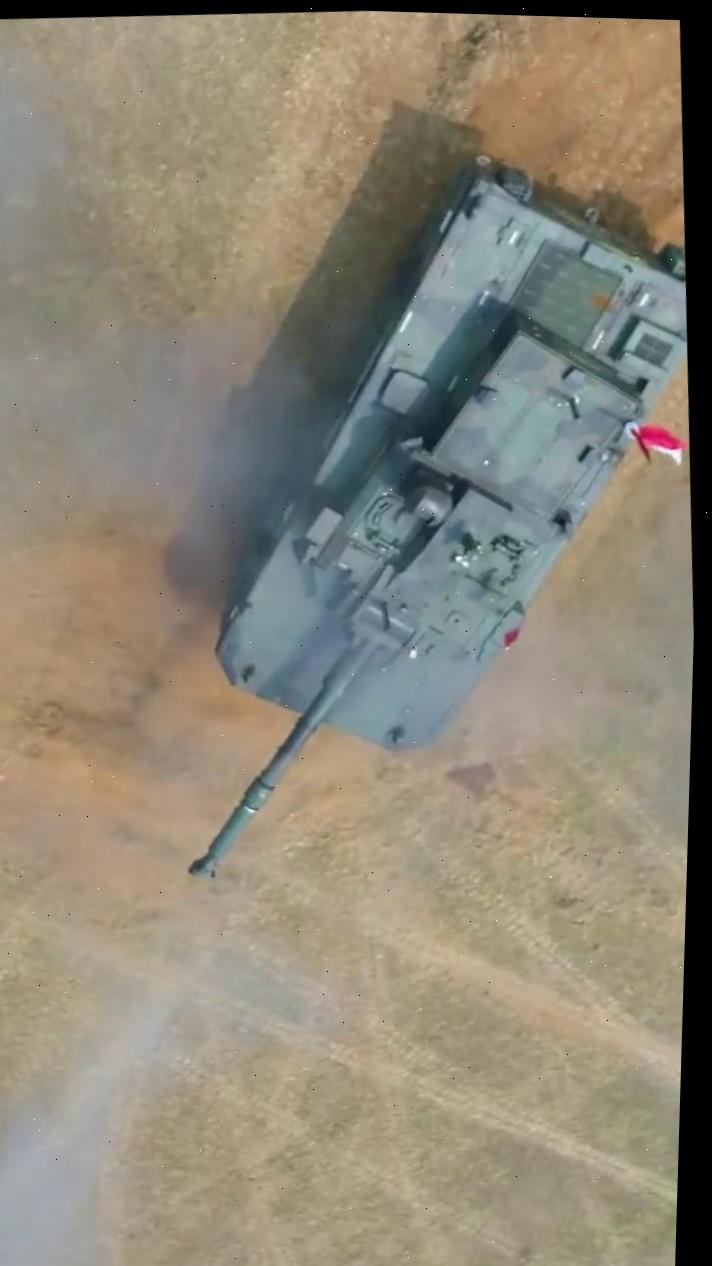tank: (142, 126, 708, 907)
